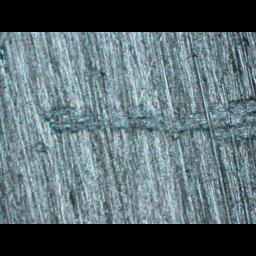d: (43, 94, 256, 142)
